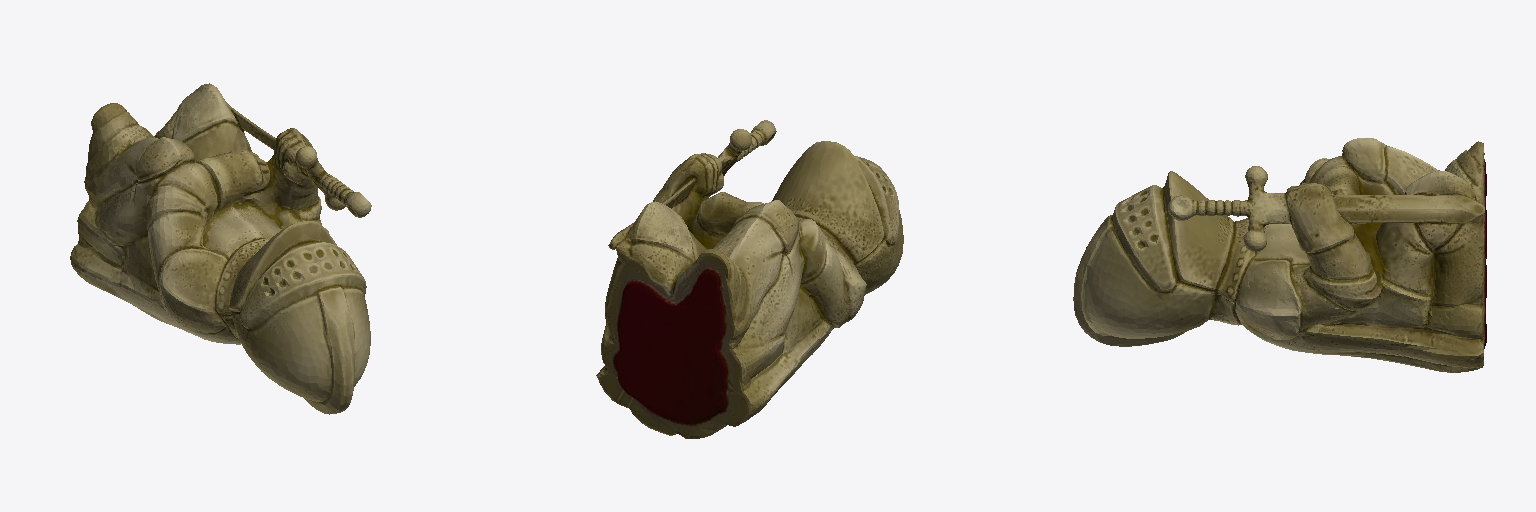
3 views of the same model, side by side, from view 1: azimuth 30°, elevation 25°; view 2: azimuth 150°, elevation 25°; view 3: azimuth 270°, elevation 25° (orthographic).
Visible parts, largest first — view 1: mmGroup0; view 2: mmGroup0; view 3: mmGroup0.
Boxes of the visible parts, box(x1,y1,x2,y2) form: mmGroup0: box(70, 83, 371, 414); mmGroup0: box(596, 120, 903, 438); mmGroup0: box(1073, 138, 1486, 372).
Size of the model in its own units: 3.75 by 4.1 by 7.11.
Materials: 1 (1 with a texture image).